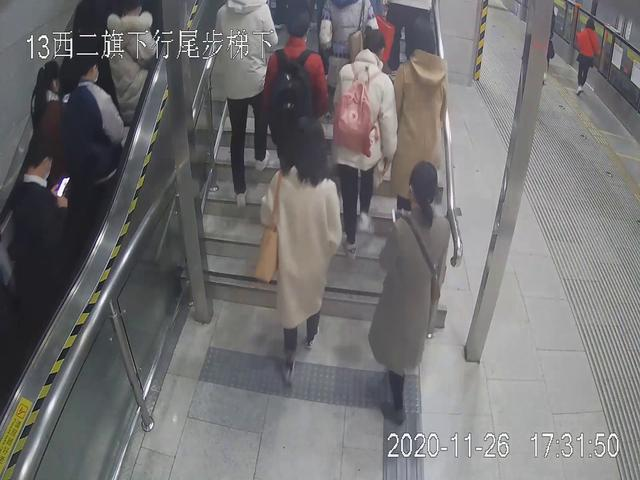person: (258, 120, 345, 381), (370, 165, 458, 413), (258, 4, 359, 206), (320, 30, 403, 246), (207, 1, 294, 205), (5, 140, 89, 351), (378, 18, 452, 229), (573, 15, 601, 98)
